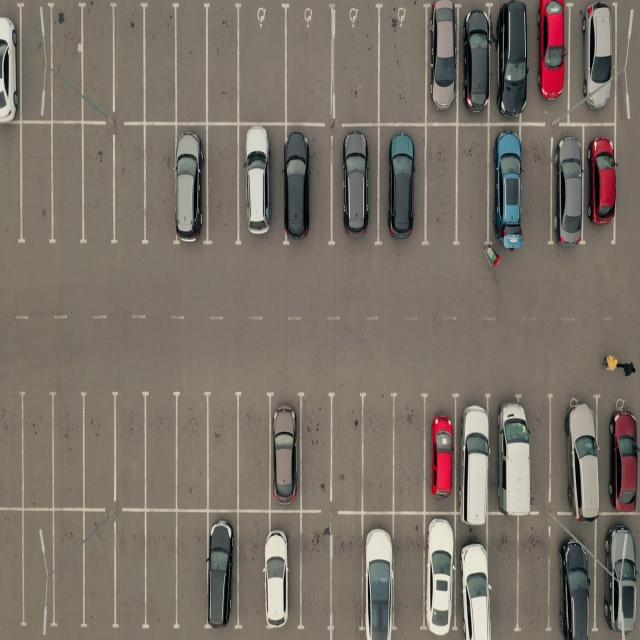space-empty: (375, 5, 425, 124), (238, 5, 288, 123), (286, 7, 336, 124), (332, 6, 380, 124), (45, 513, 87, 630), (15, 126, 53, 248), (46, 2, 84, 122), (204, 5, 242, 123), (175, 4, 212, 124), (78, 392, 116, 508), (49, 128, 86, 247), (142, 4, 179, 123), (176, 394, 214, 509), (112, 392, 150, 507), (78, 129, 115, 247), (78, 512, 115, 630), (111, 4, 148, 122), (17, 512, 54, 630), (112, 129, 149, 247), (50, 396, 87, 512), (17, 395, 54, 511), (518, 515, 555, 631), (142, 512, 178, 631), (115, 512, 151, 631), (78, 2, 114, 121), (328, 395, 366, 507), (392, 398, 429, 513), (143, 393, 180, 508), (206, 125, 242, 243), (457, 126, 492, 247), (331, 514, 366, 635), (237, 394, 274, 508), (358, 396, 395, 510), (205, 394, 241, 510), (141, 123, 176, 242), (423, 123, 457, 243), (235, 512, 269, 632), (296, 395, 332, 508), (15, 4, 50, 120), (296, 513, 330, 632), (394, 514, 427, 636), (177, 512, 210, 631), (486, 516, 518, 635), (523, 125, 554, 245), (0, 386, 24, 507), (0, 510, 24, 628), (0, 127, 22, 248)
space-occupied: (282, 128, 330, 247), (571, 0, 617, 121), (332, 129, 379, 245), (382, 122, 428, 240), (490, 396, 534, 517), (240, 124, 283, 245), (553, 519, 597, 636), (557, 394, 599, 514), (532, 0, 572, 119), (457, 392, 496, 513), (600, 519, 640, 636), (421, 512, 458, 637), (492, 1, 529, 122), (424, 6, 460, 124), (604, 400, 640, 516), (265, 512, 300, 631), (488, 126, 522, 248), (423, 394, 458, 512), (361, 514, 394, 637), (458, 518, 492, 637), (267, 393, 302, 508), (176, 128, 210, 246), (205, 510, 237, 630), (552, 128, 585, 242), (462, 8, 494, 124), (583, 127, 614, 236), (0, 5, 21, 124)
